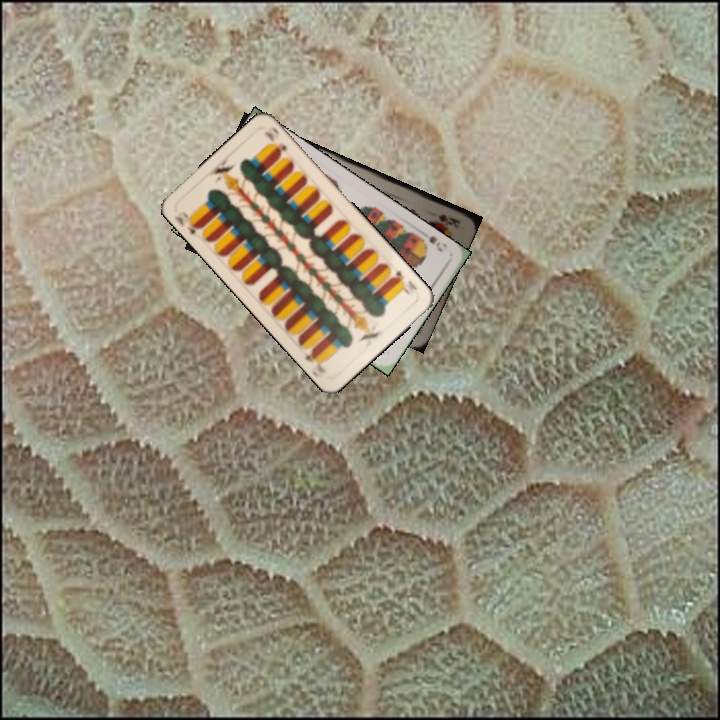E10: (171, 207, 205, 238), (388, 266, 419, 298)
S9: (414, 226, 446, 255)
SK: (434, 210, 463, 230)
